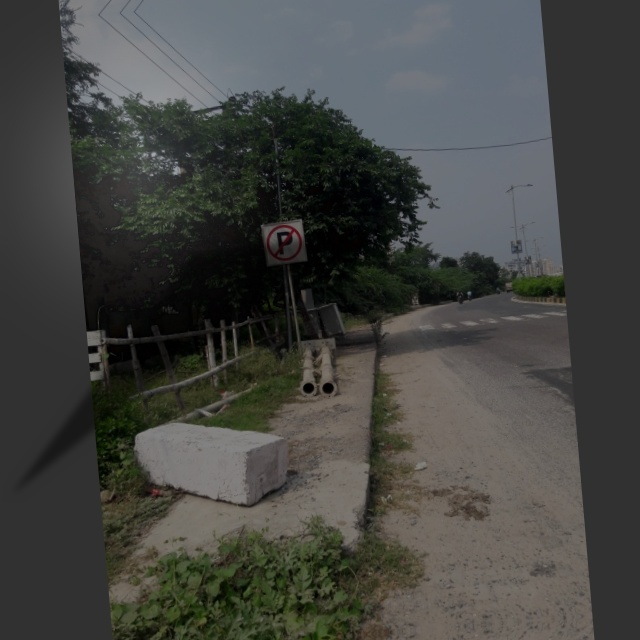No_Parking: (260, 218, 309, 269)
